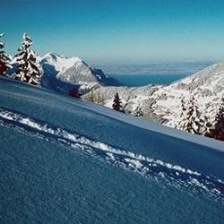neutral: (2, 11, 222, 205)
